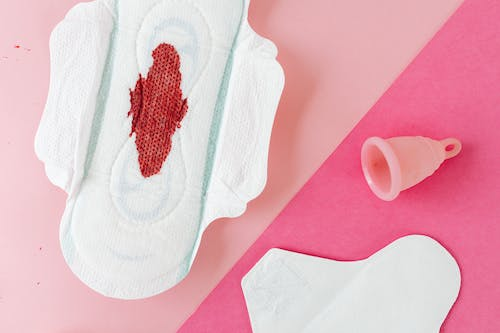blood: (125, 42, 189, 180)
